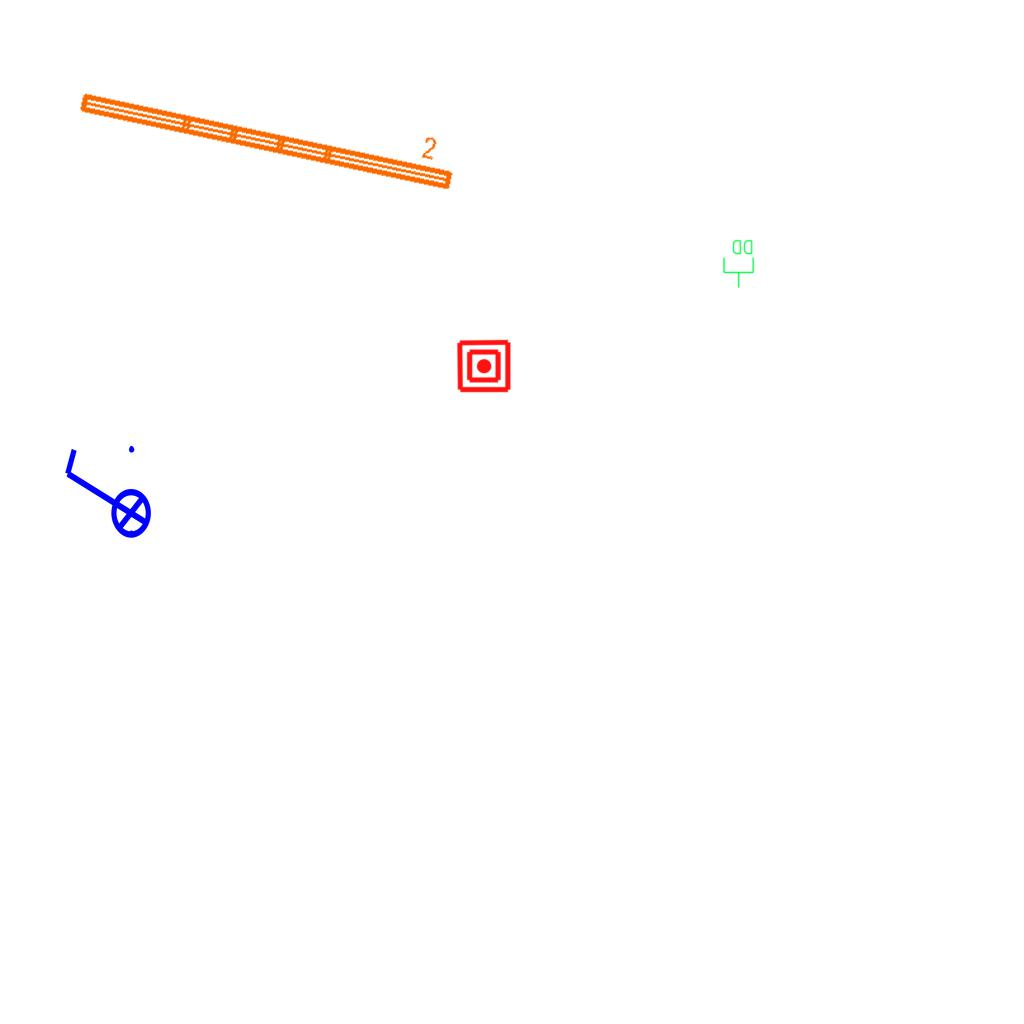Ambulanz_Pendelleuchte_LED: (73, 61, 464, 197)
Ausschalter_beleuchtet: (57, 440, 153, 552)
Datenanschluss_zweifach: (722, 238, 756, 289)
NAM-Nichtautomatischer_Melder: (456, 338, 512, 394)
